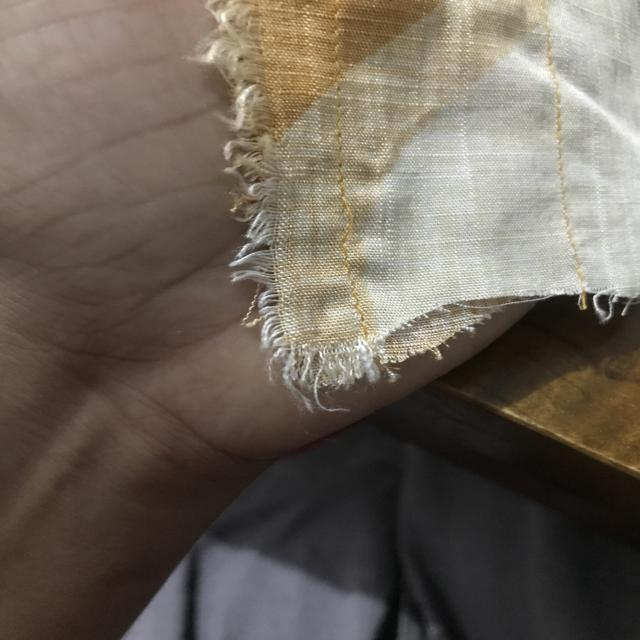skip: (330, 192, 368, 262)
